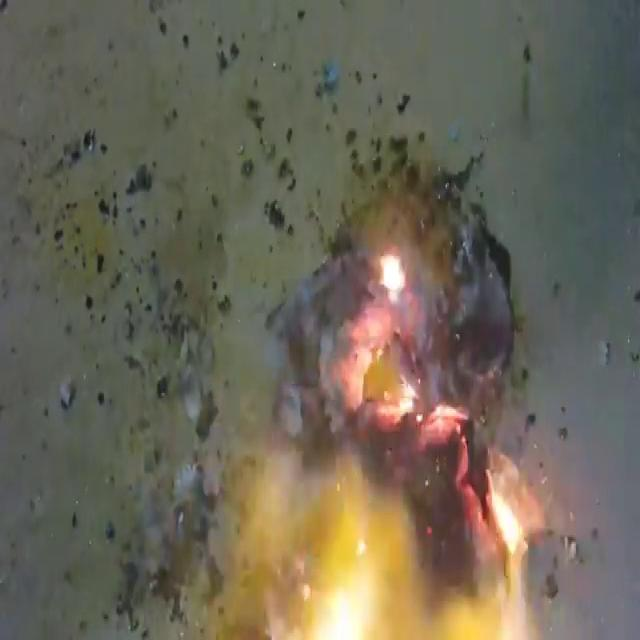Fire: (156, 143, 568, 636)
